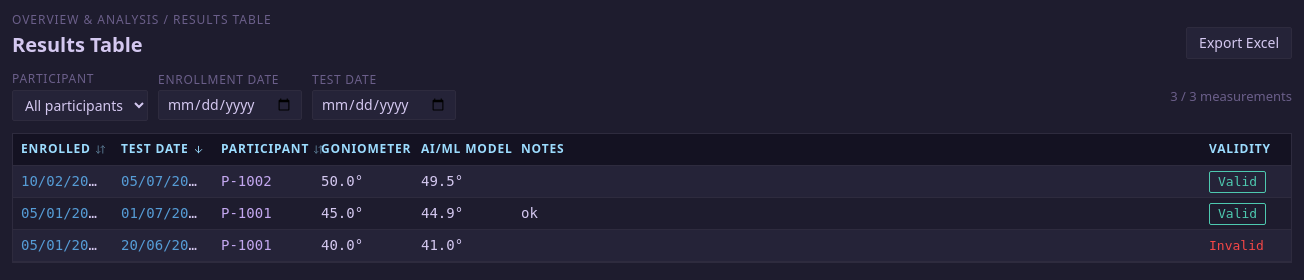
Test: ResultsDisplay › filters by participant
Select "P-1002" in the dropdown named "filter by participant" at (80, 105), box [12,90,148,121]
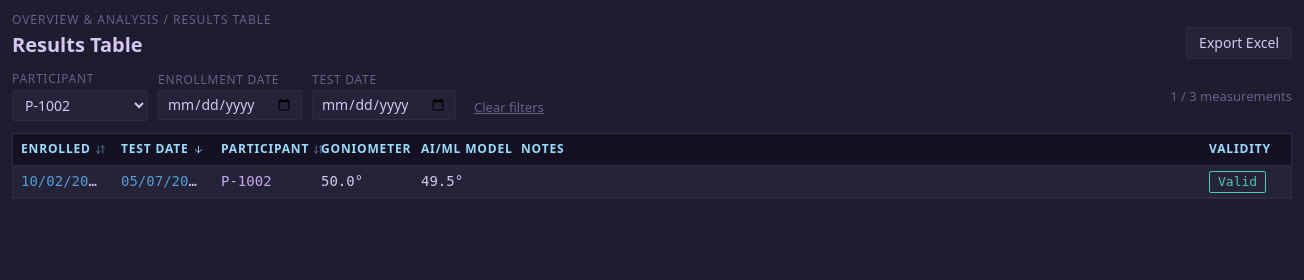
Now the text "1 / 3 measurements" is shown, box [1170,87,1292,105]
